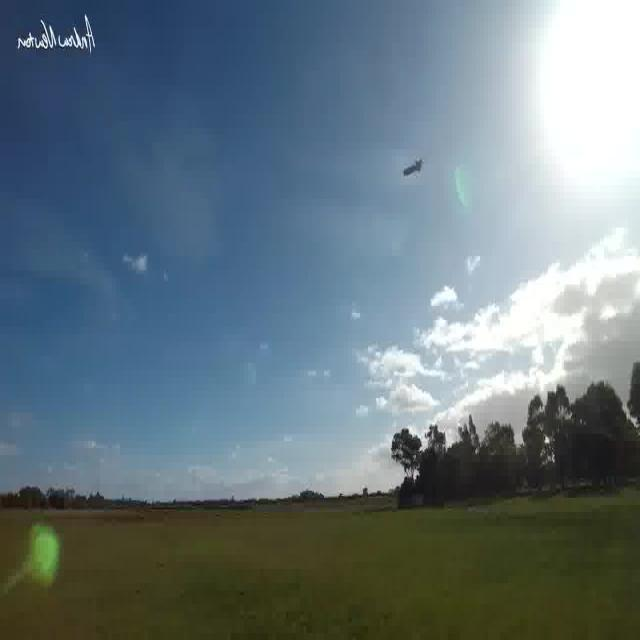iha: (402, 146, 421, 188)
